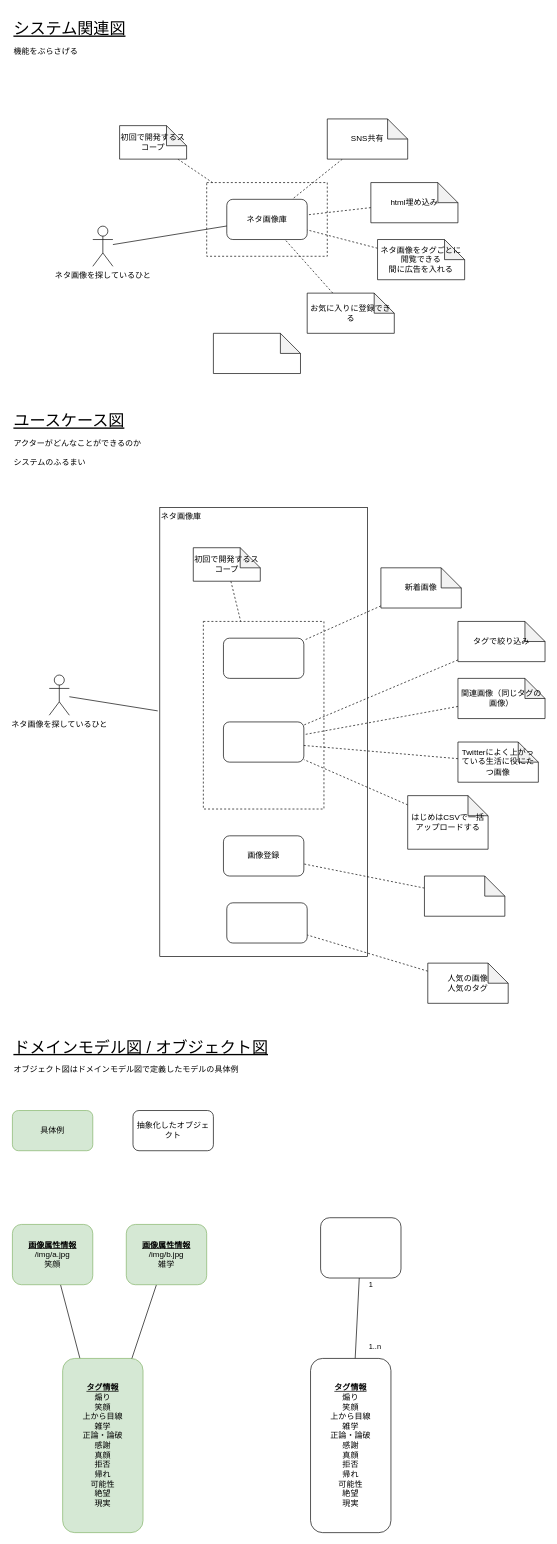
This 557x1544 diagram has some shape labels left out. The shapes that lost their labels are listed below. From the top down, each one's centre as x and y in pixels, then its label:
At [256,353]: "削除依頼フォームから画像の削除申請ができる".
At [263,658]: "画像トップ".
At [263,741]: "画像一覧".
At [464,895]: "タグは自由に設定できる".
At [266,922]: "アクセス集計 （バッチ）".
At [360,1247]: "画像属性情報 (ImageAttribute) 画像パス タグ".
